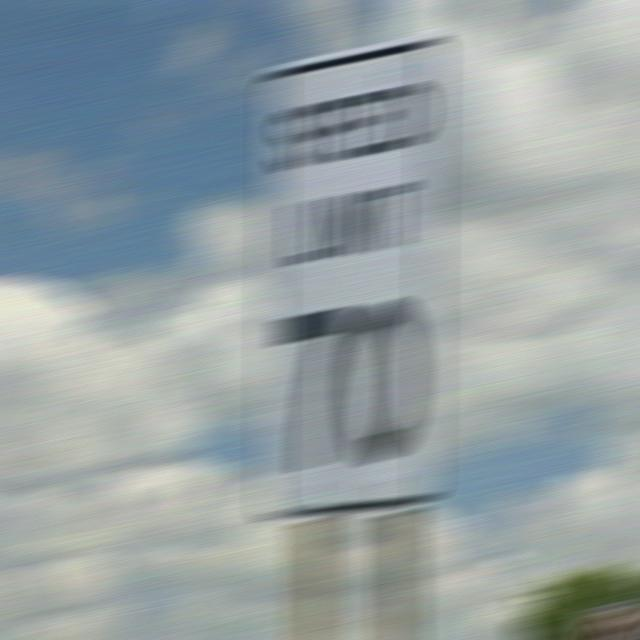speedLimit70: (258, 65, 440, 515)
